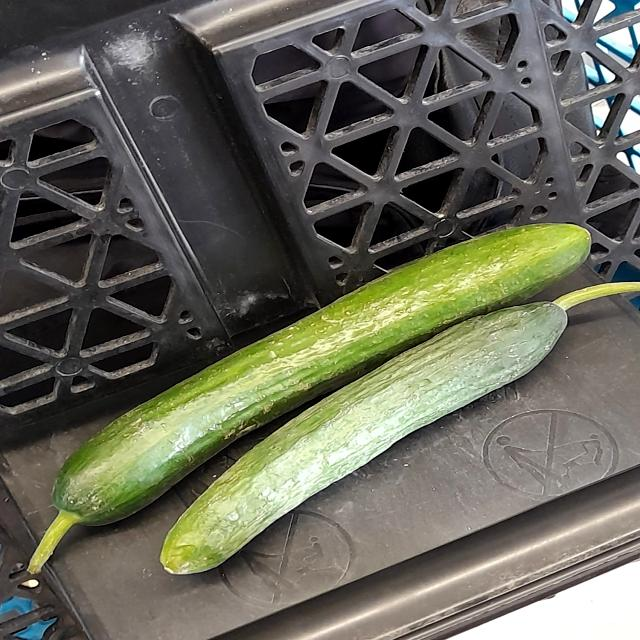cucumber: (24, 198, 610, 557), (155, 273, 629, 577)
